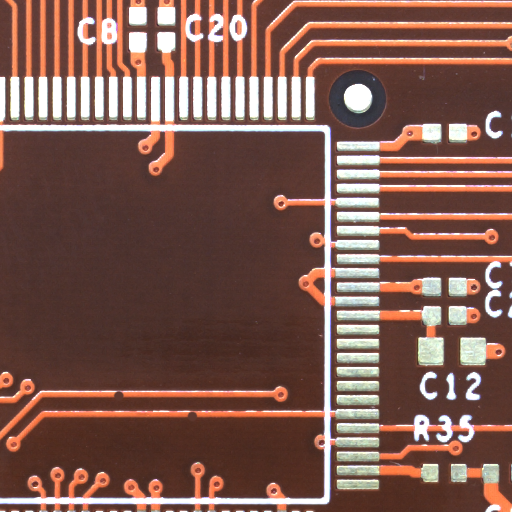Mouse_bite: (191, 414, 208, 426), (117, 395, 133, 406)
